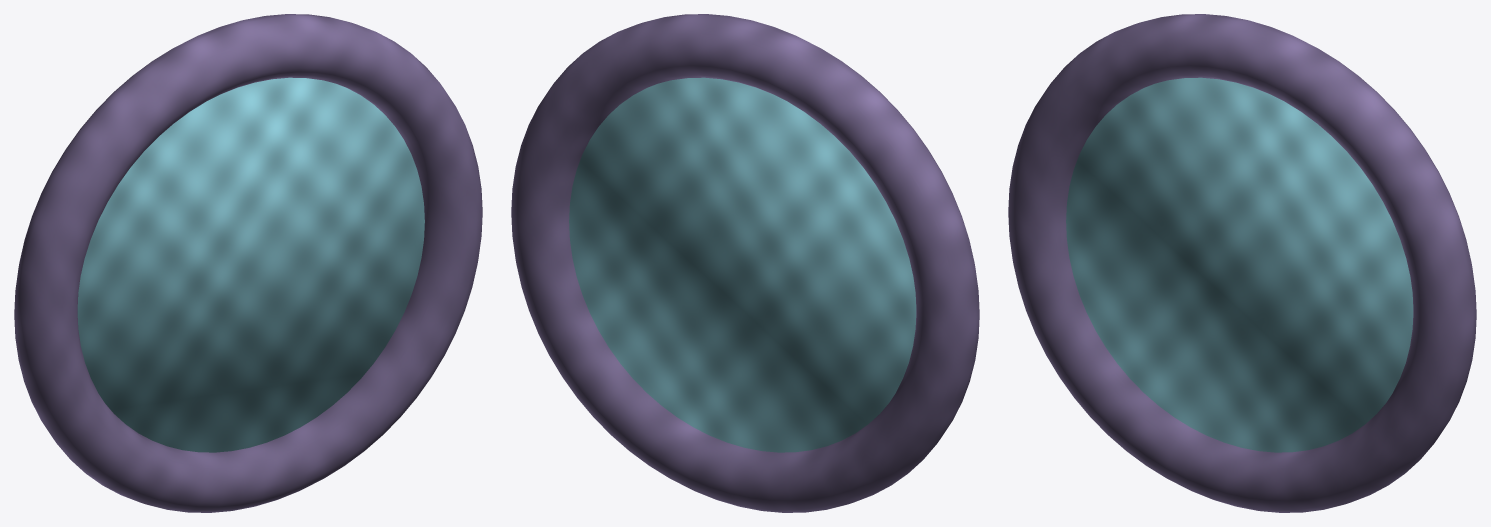
The model's file is portal.glb.
3 views of the same model, side by side, from view 1: azimuth 30°, elevation 25°; view 2: azimuth 150°, elevation 25°; view 3: azimuth 330°, elevation 25° (orthographic).
Visible parts, largest first — view 1: portal_disc, portal_ring; view 2: portal_disc, portal_ring; view 3: portal_disc, portal_ring.
Part boxes in pixels (<box>): portal_disc: <box>77,77,424,452</box>; portal_ring: <box>14,14,482,512</box>; portal_disc: <box>569,77,916,452</box>; portal_ring: <box>511,14,979,512</box>; portal_disc: <box>1066,77,1413,452</box>; portal_ring: <box>1008,14,1476,512</box>.
Size of the model in its own units: 5 by 5 by 0.6.
2 materials, 2 textured.
